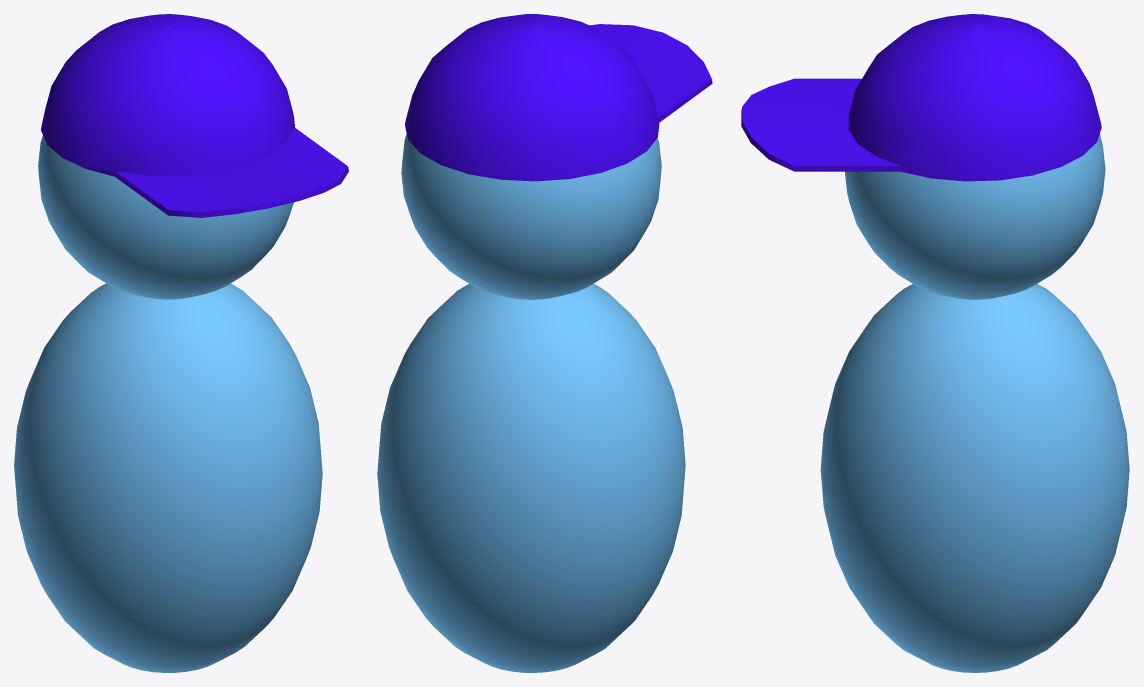
The model's file is Radnik.fbx.
The picture shows the model from 3 angles, left to right: view 1: azimuth 30°, elevation 25°; view 2: azimuth 150°, elevation 25°; view 3: azimuth 270°, elevation 25°; orthographic projection.
Parts seen in each view (by area): view 1: cika_1_1, cika_7.003, cika_1_1.001; view 2: cika_1_1, cika_7.003, cika_1_1.001; view 3: cika_1_1, cika_7.003, cika_1_1.001.
Part boxes in pixels (x1,y1,x2,y2): cika_1_1: (14, 283, 322, 672); cika_7.003: (41, 14, 348, 217); cika_1_1.001: (38, 136, 293, 299); cika_1_1: (377, 284, 685, 672); cika_7.003: (405, 14, 712, 181); cika_1_1.001: (401, 134, 661, 299); cika_1_1: (820, 284, 1129, 672); cika_7.003: (741, 14, 1101, 181); cika_1_1.001: (845, 134, 1105, 299).
Bounding box in the file's own units: 3842 × 8733 × 4829.
